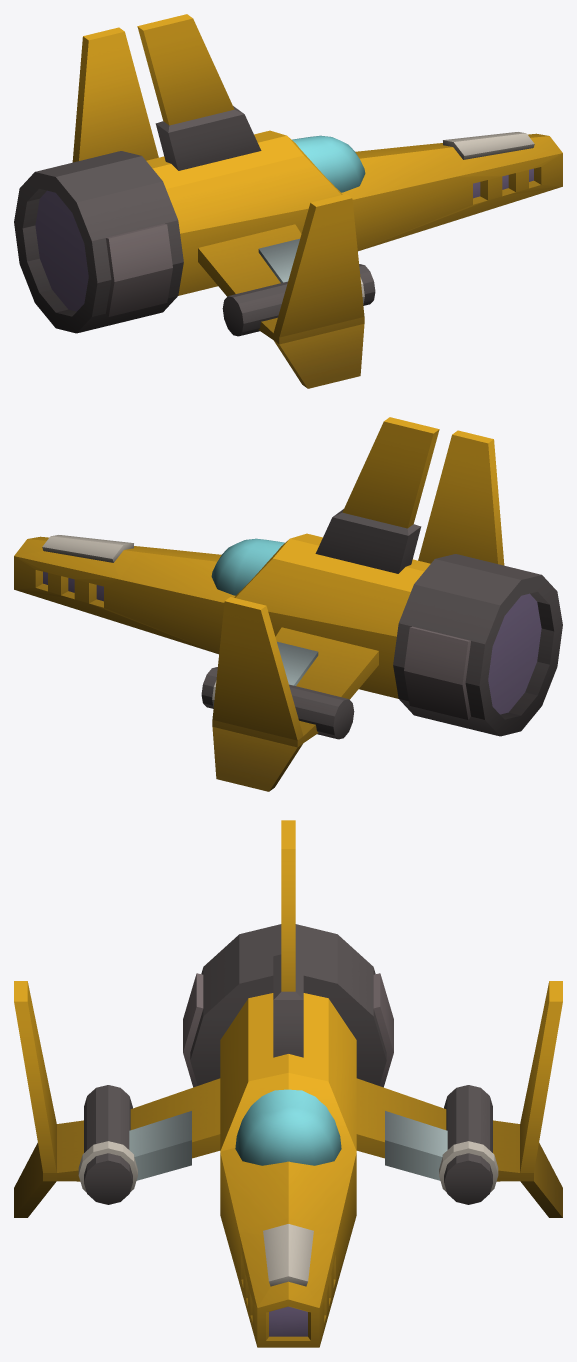
File: Jet_2.fbx
The picture shows the model from 3 angles, top to bottom: view 1: azimuth 30°, elevation 25°; view 2: azimuth 150°, elevation 25°; view 3: azimuth 270°, elevation 25°; orthographic projection. The views are drawn at different scales.
Visible parts, largest first — view 1: Jet_2; view 2: Jet_2; view 3: Jet_2.
Boxes of the visible parts, box(x1,y1,x2,y2) form: Jet_2: box(14, 14, 562, 388); Jet_2: box(14, 417, 562, 791); Jet_2: box(14, 820, 562, 1347).
Size of the model in its own units: 459 by 256 by 376.
1 material, 1 textured.
